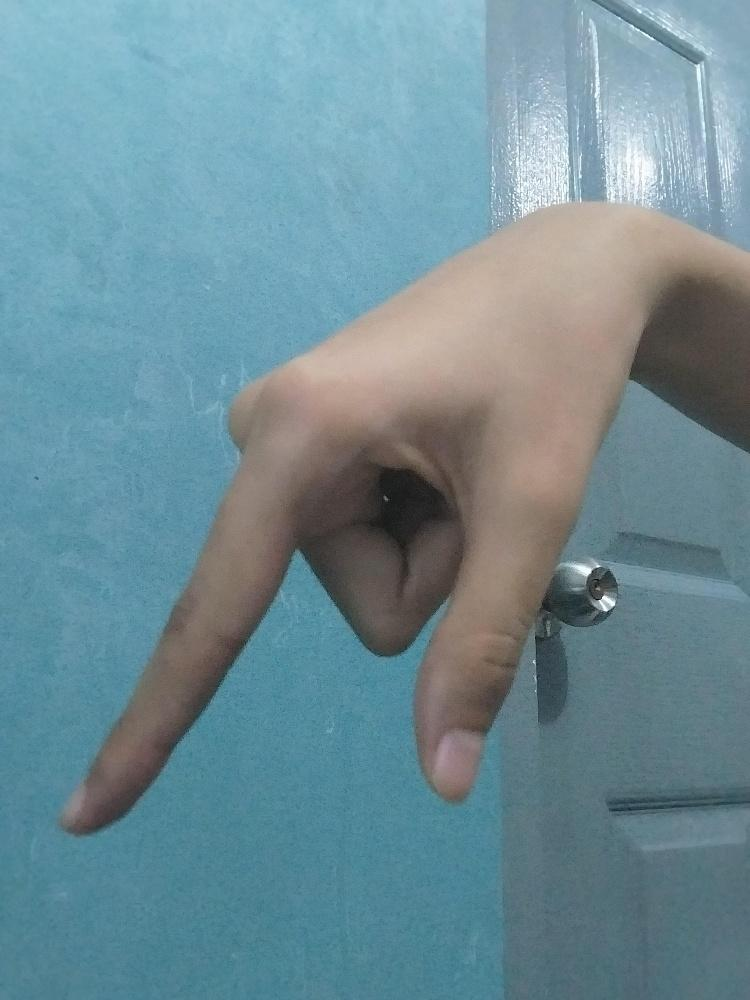q: (56, 200, 597, 838)
